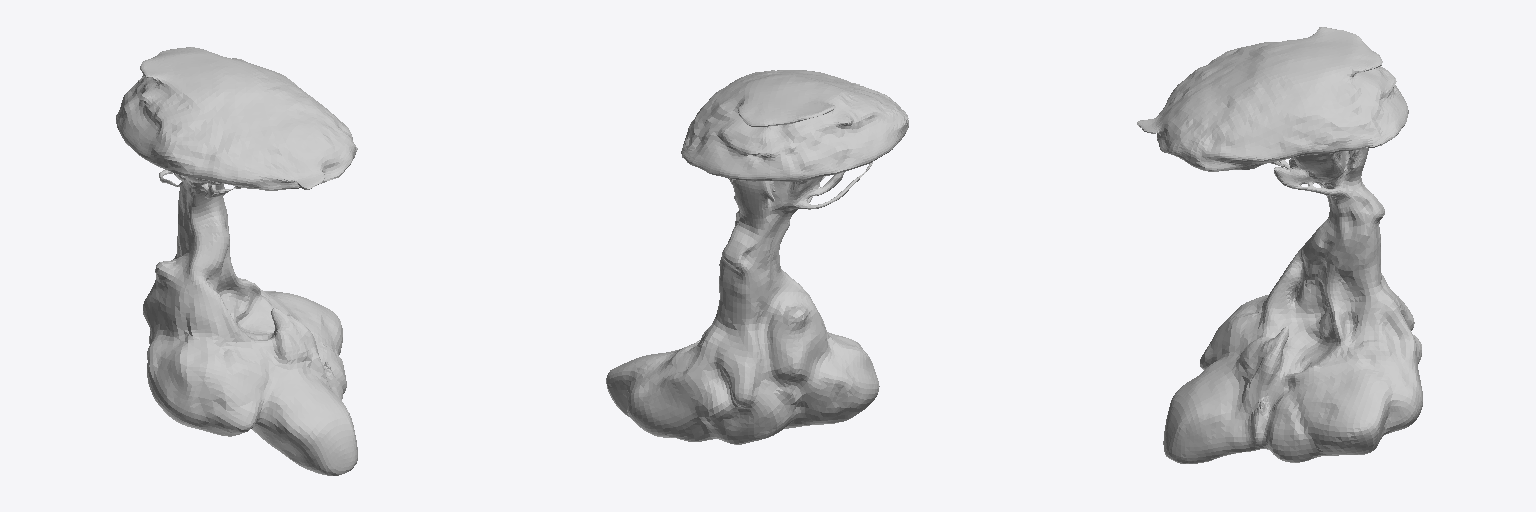
The model's file is 4b22e0fb4f99_A_bioluminescent_al.obj.
The picture shows the model from 3 angles: view 1: azimuth 30°, elevation 25°; view 2: azimuth 150°, elevation 25°; view 3: azimuth 270°, elevation 25°; orthographic projection.
Parts seen in each view (by area): view 1: mesh; view 2: mesh; view 3: mesh.
Part boxes in pixels (x1,y1,x2,y2): mesh: (116, 47, 357, 475); mesh: (606, 70, 908, 444); mesh: (1137, 27, 1422, 463).
Size of the model in its own units: 0.6714 by 0.9973 by 0.6951.